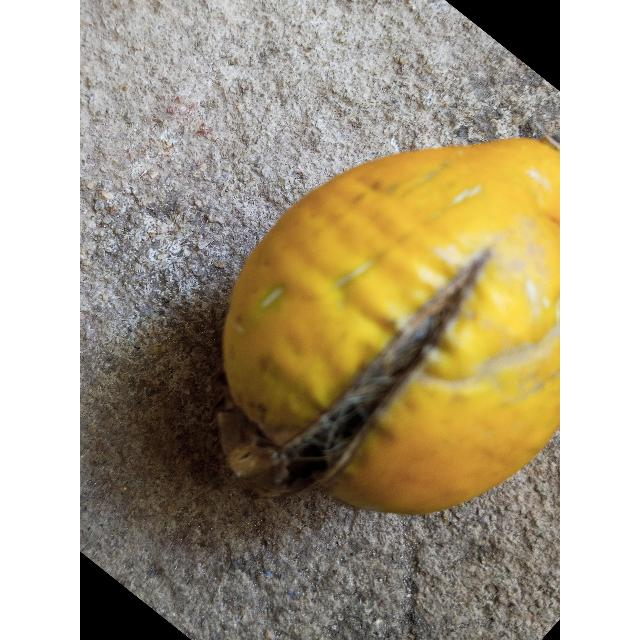damaged: (217, 140, 560, 517)
